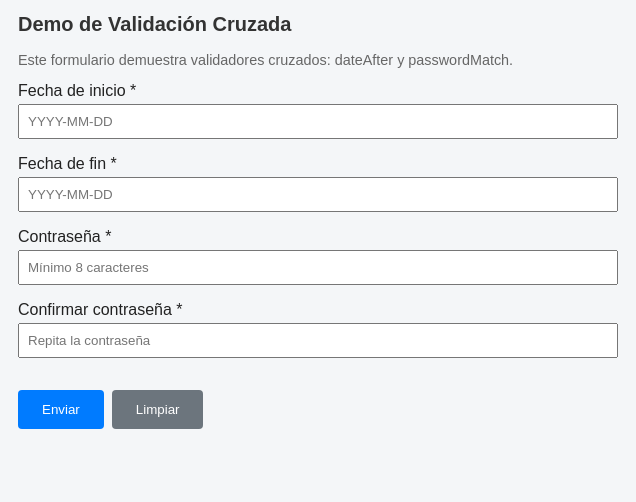
ValidationDemo integration tests › shows multiple errors when multiple fields are invalid
Type "2024-01-01" into the field labelled "Fecha de inicio *" at (318, 122), box left=18, top=104, right=618, bottom=139
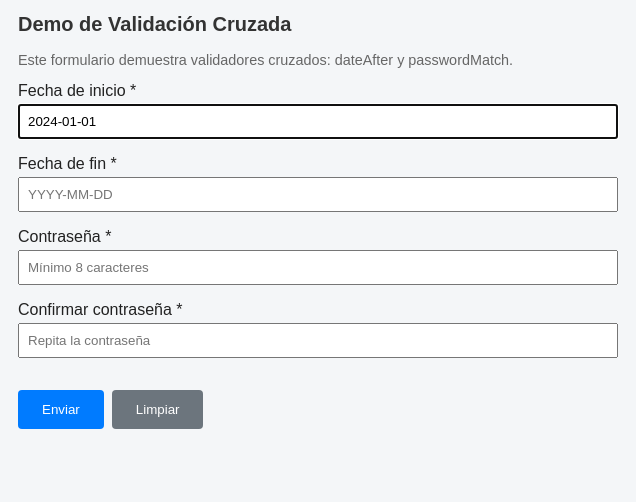
Click the button "Enviar" at (61, 410), box left=18, top=390, right=104, bottom=429
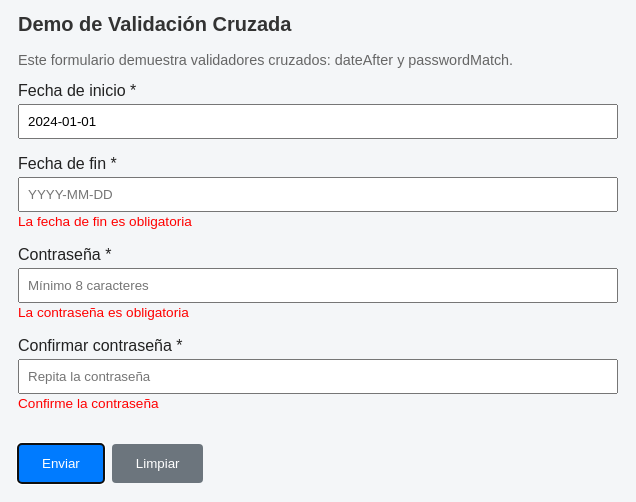
Result: the text "La fecha de fin es obligatoria" is shown at left=18, top=214, right=192, bottom=229
Result: the text "La contraseña es obligatoria" is shown at left=18, top=305, right=189, bottom=320
Result: the text "Confirme la contraseña" is shown at left=18, top=396, right=158, bottom=411
